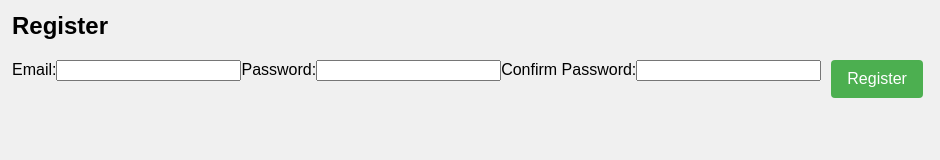
Test: Register component › displays an error message if passwords do not match
Type "test@example.com" into the field labelled "Email:" at (149, 70), box [56, 60, 242, 81]
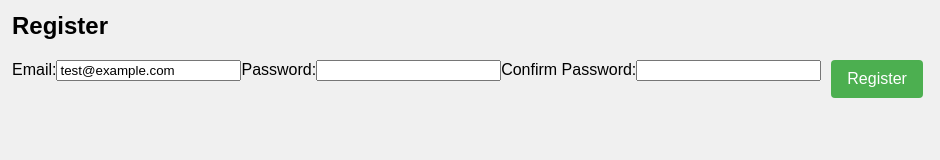
Type "password123" into the password field labelled "Password:" at (409, 70), box [316, 60, 501, 81]
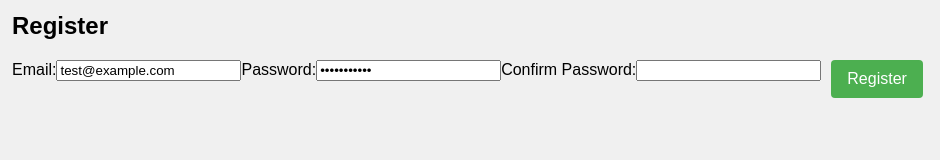
Type "password456" into the password field labelled "Confirm Password:" at (729, 70), box [636, 60, 821, 81]
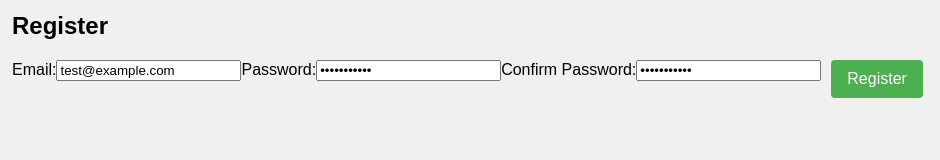
Click the button "Register" at (877, 79), box [831, 60, 923, 98]
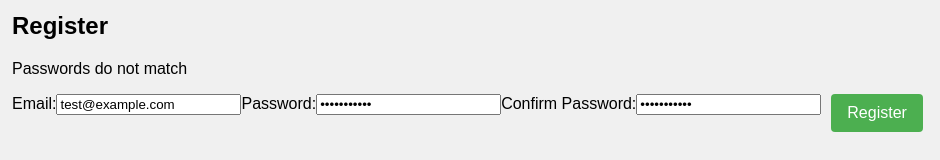
Expected: the text "Passwords do not match" is shown, [12, 60, 187, 77]
